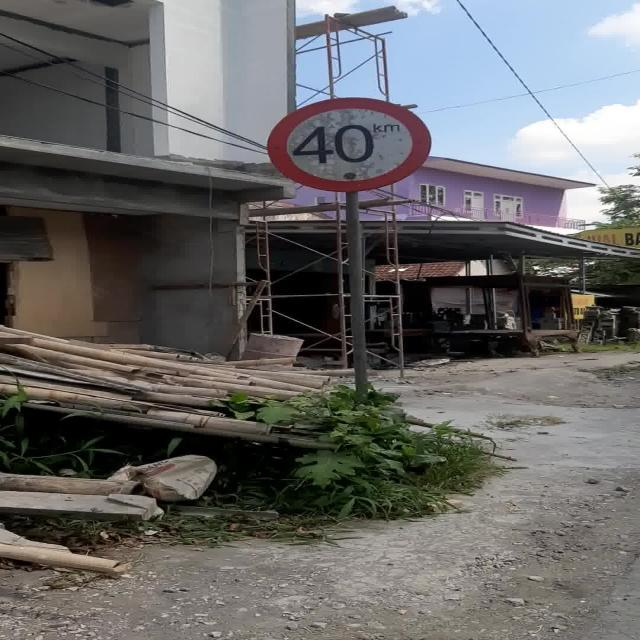Kecepatan Maks. 40 km: (265, 98, 431, 192)
